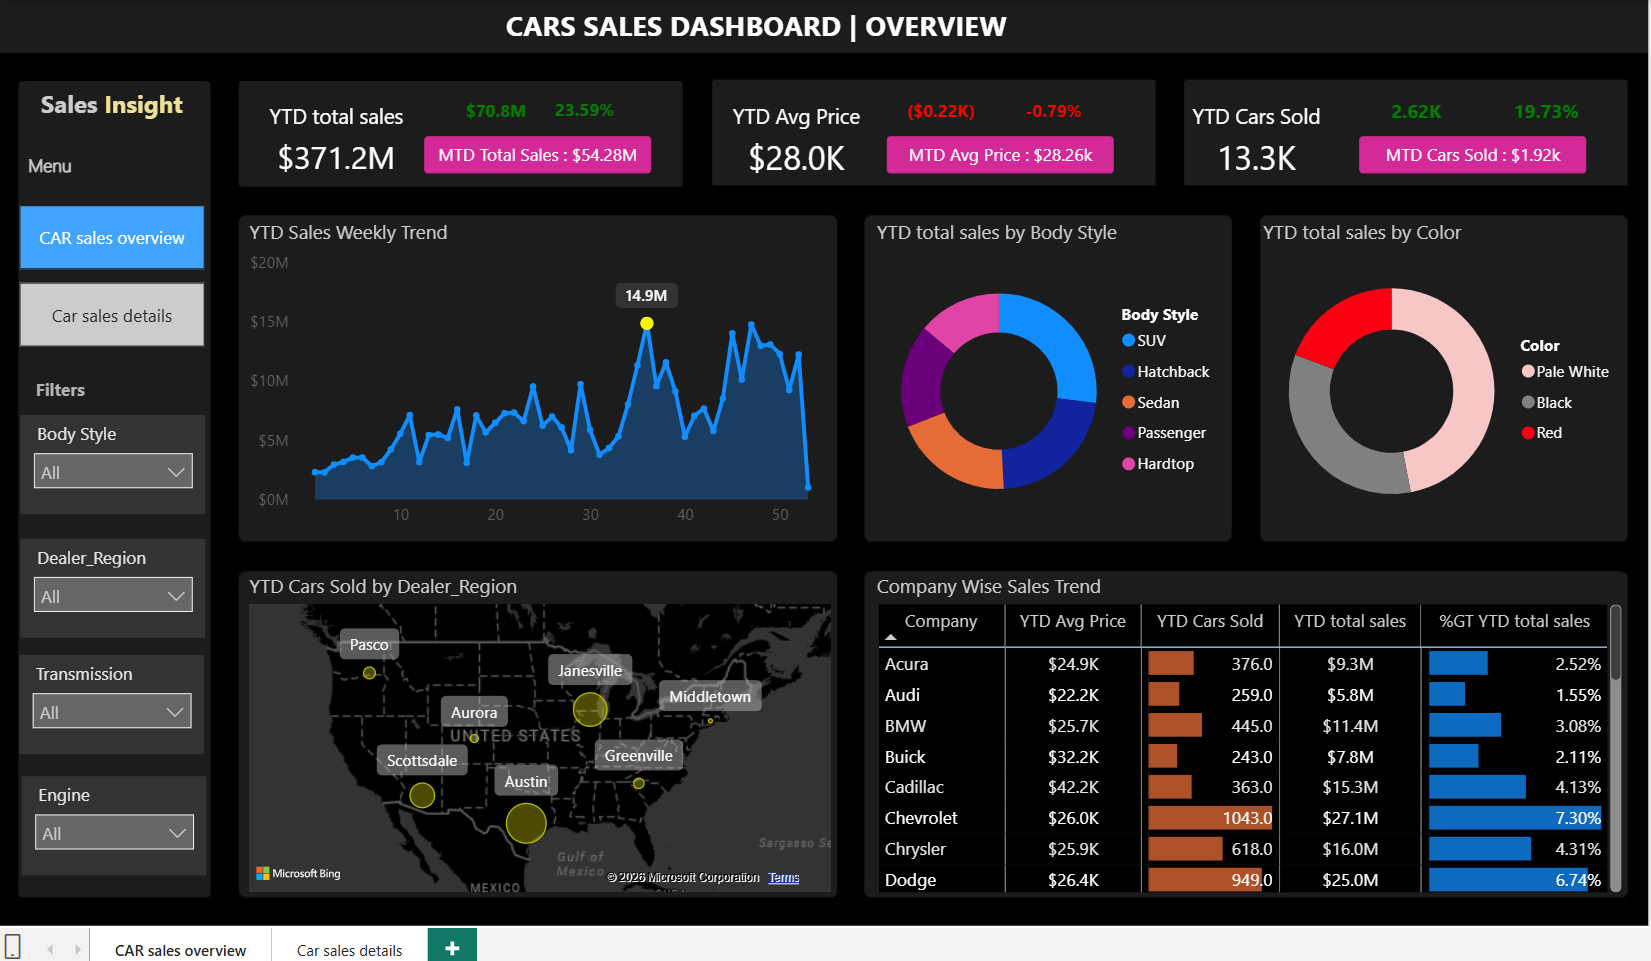

The page's visual inventory and layout, read from the dashboard file:
{"tool":"powerbi","page":{"name":"CAR sales overview","canvas":[1280,720],"ordinal":0},"visuals":[{"type":"card","title":"YTD total sales","fields":{"Values":["car_data.YTD total sales"]},"box":[180.9,78.1,162.3,68.2],"z":0},{"type":"card","fields":{"Values":["car_data.Sales Difference"]},"box":[343.2,70.6,86.7,34.7],"z":1000},{"type":"card","fields":{"Values":["car_data.YOY Sales Growth"]},"box":[418.7,63.3,72.8,49.6],"z":2000},{"type":"card","fields":{"Values":["car_data.MTD KPI"]},"box":[330.8,105.3,176,28.5],"z":3000},{"type":"card","title":"YTD Avg Price","fields":{"Values":["car_data.YTD Avg Price"]},"box":[537.8,78.1,162.3,68.2],"z":4000},{"type":"card","fields":{"Values":["car_data.Avg Price Diff"]},"box":[688.6,70.7,86.5,34.8],"z":5000},{"type":"card","fields":{"Values":["car_data.YOY Avg Price Growth"]},"box":[775.7,70.6,86.7,34.7],"z":6000},{"type":"card","fields":{"Values":["car_data.MTD Avg Price KPI"]},"box":[688.9,105.3,176,28.5],"z":7000},{"type":"card","title":"YTD Cars Sold","fields":{"Values":["car_data.YTD Cars Sold"]},"box":[894.6,78.1,162.3,68.2],"z":8000},{"type":"card","fields":{"Values":["car_data.Cars Sold Diff"]},"box":[1057,70.6,86.7,34.7],"z":9000},{"type":"card","fields":{"Values":["car_data.YOY Cars Sold Growth"]},"box":[1157.3,70.6,86.7,34.7],"z":10000},{"type":"card","fields":{"Values":["car_data.MTD Cars sold KPI"]},"box":[1055.7,105.3,176,28.5],"z":11000},{"type":"areaChart","title":"YTD Sales Weekly Trend","fields":{"Category":["CALENDAR TABLE.Week"],"Y":["Sum(car_data.Price ($))","car_data.Max Point"]},"box":[189.8,169.8,460.8,247.8],"z":12000},{"type":"donutChart","fields":{"Category":["car_data.Body Style"],"Y":["car_data.YTD total sales"]},"box":[676.6,169.8,277.6,247.8],"z":13000},{"type":"donutChart","fields":{"Category":["car_data.Color"],"Y":["car_data.YTD total sales"]},"box":[976.4,169.8,287.5,247.8],"z":14000},{"type":"map","fields":{"Category":["car_data.Dealer_Region"],"Size":["car_data.YTD Cars Sold"]},"box":[189.6,443.6,460.9,252.8],"z":15000},{"type":"tableEx","title":"Company Wise Sales Trend","fields":{"Values":["car_data.Company","car_data.YTD Avg Price","car_data.YTD Cars Sold","car_data.YTD total sales1","car_data.YTD total sales"]},"box":[676.6,443.6,587.3,252.8],"z":16000},{"type":"textbox","box":[357.8,0,461.1,75.6],"z":17000},{"type":"slicer","fields":{"Values":["car_data.Body Style"]},"box":[17.8,322.2,143.3,76.7],"z":18000},{"type":"slicer","fields":{"Values":["car_data.Dealer_Region"]},"box":[17.8,417.8,143.3,76.7],"z":19000},{"type":"slicer","fields":{"Values":["car_data.Transmission"]},"box":[16.7,507.8,143.3,76.7],"z":20000},{"type":"slicer","fields":{"Values":["car_data.Engine"]},"box":[18.9,602.2,143.3,76.7],"z":21000},{"type":"textbox","box":[16.7,63.3,143.3,34.4],"z":22000},{"type":"textbox","box":[18.9,113.3,67.8,32.2],"z":23000},{"type":"pageNavigator","box":[16.7,158.9,144.4,111.1],"z":24000},{"type":"textbox","box":[24.4,287.8,62.2,34.4],"z":24001}]}

Visuals, with their boxes on the page's 1280x720 design canvas (x1, y1, x2, y2). These are canvas units, not pixel positions in the 1651x961 screenshot, which may show the page scaled, cropped or inside an application window:
"YTD total sales" card: box=[181, 78, 343, 146]
card - car_data.Sales Difference: box=[343, 71, 430, 105]
card - car_data.YOY Sales Growth: box=[419, 63, 492, 113]
card - car_data.MTD KPI: box=[331, 105, 507, 134]
"YTD Avg Price" card: box=[538, 78, 700, 146]
card - car_data.Avg Price Diff: box=[689, 71, 775, 106]
card - car_data.YOY Avg Price Growth: box=[776, 71, 862, 105]
card - car_data.MTD Avg Price KPI: box=[689, 105, 865, 134]
"YTD Cars Sold" card: box=[895, 78, 1057, 146]
card - car_data.Cars Sold Diff: box=[1057, 71, 1144, 105]
card - car_data.YOY Cars Sold Growth: box=[1157, 71, 1244, 105]
card - car_data.MTD Cars sold KPI: box=[1056, 105, 1232, 134]
"YTD Sales Weekly Trend" areaChart: box=[190, 170, 651, 418]
donutChart - car_data.Body Style x car_data.YTD total sales: box=[677, 170, 954, 418]
donutChart - car_data.Color x car_data.YTD total sales: box=[976, 170, 1264, 418]
map - car_data.Dealer_Region x car_data.YTD Cars Sold: box=[190, 444, 650, 696]
"Company Wise Sales Trend" tableEx: box=[677, 444, 1264, 696]
textbox: box=[358, 0, 819, 76]
slicer - car_data.Body Style: box=[18, 322, 161, 399]
slicer - car_data.Dealer_Region: box=[18, 418, 161, 494]
slicer - car_data.Transmission: box=[17, 508, 160, 584]
slicer - car_data.Engine: box=[19, 602, 162, 679]
textbox: box=[17, 63, 160, 98]
textbox: box=[19, 113, 87, 146]
pageNavigator: box=[17, 159, 161, 270]
textbox: box=[24, 288, 87, 322]
